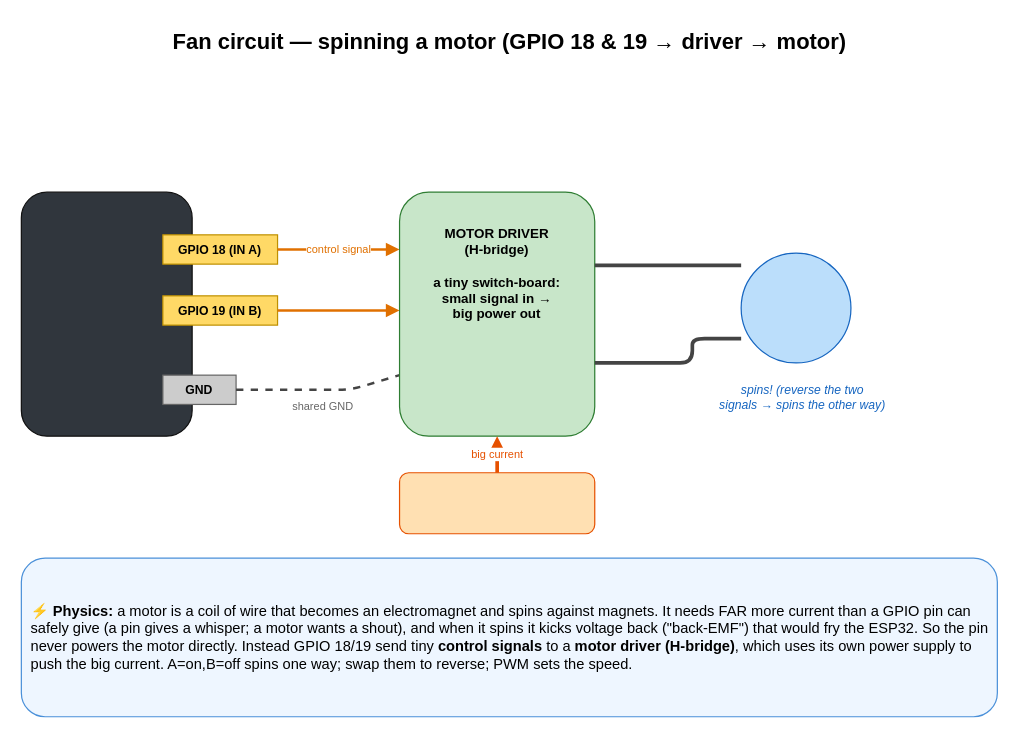
Some shapes in this 1019 by 738 pixel diagram are drawn without their labels. Here are the shapes that lost their labels. From the top down, the centre of each, then its label:
the point at 106,313: ESP32
the point at 795,307: M 🌀 fan motor
the point at 496,503: 🔋 external power (battery / USB 5 V)
